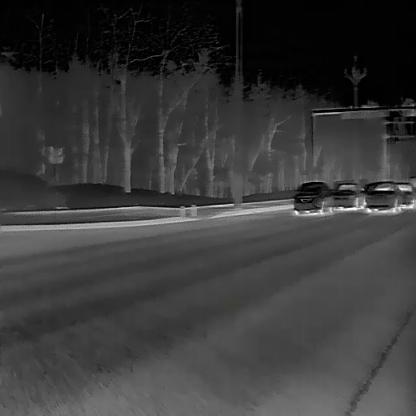car: (293, 181, 334, 212), (363, 180, 402, 210), (332, 181, 365, 209), (396, 181, 414, 206)
